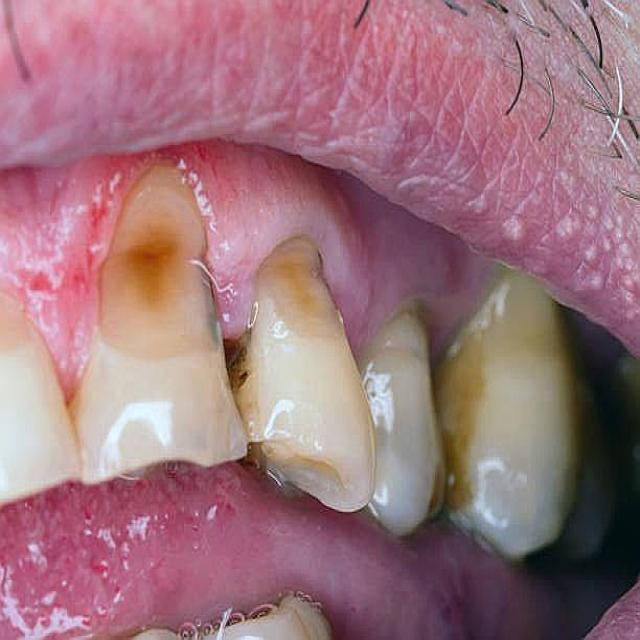caries: (94, 170, 228, 368), (250, 217, 347, 338), (220, 333, 263, 399)
